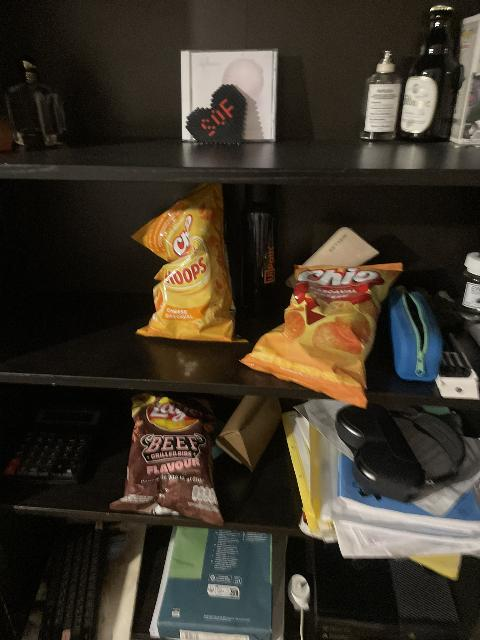Chio Cascaval 125g: (239, 257, 406, 406)
Chio Hula Hoops Cheese 70g: (131, 185, 247, 340)
Lays Beef Grilled Ribs 125g: (109, 394, 223, 523)
